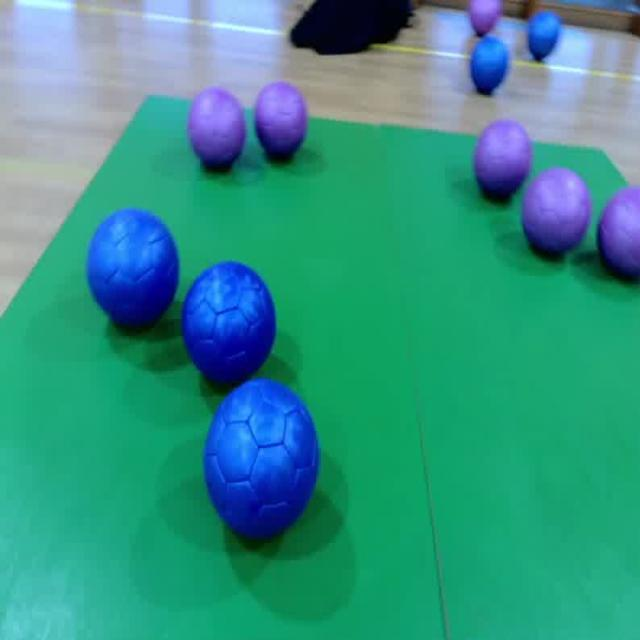blue_ball: (204, 378, 323, 536), (180, 260, 274, 388), (86, 208, 180, 329), (468, 38, 509, 95), (526, 12, 562, 65)
purple_ball: (523, 169, 592, 258), (188, 86, 248, 168), (476, 117, 533, 201), (255, 78, 308, 158), (599, 183, 640, 276), (466, 0, 504, 35)
